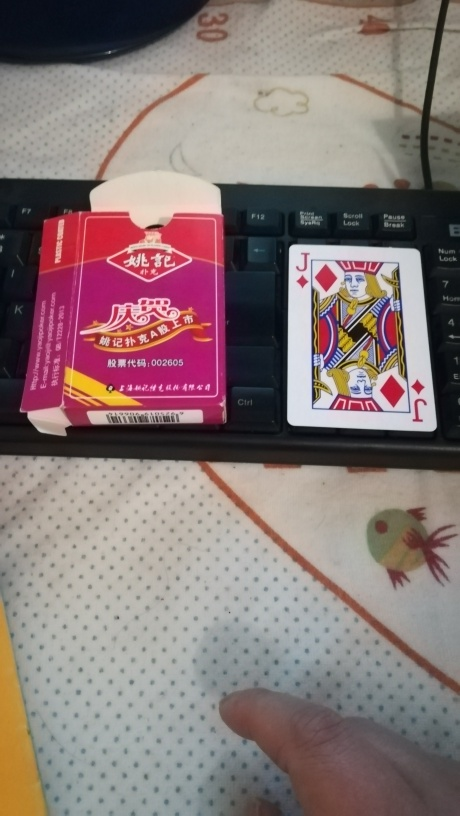fk j: (287, 245, 436, 433)
